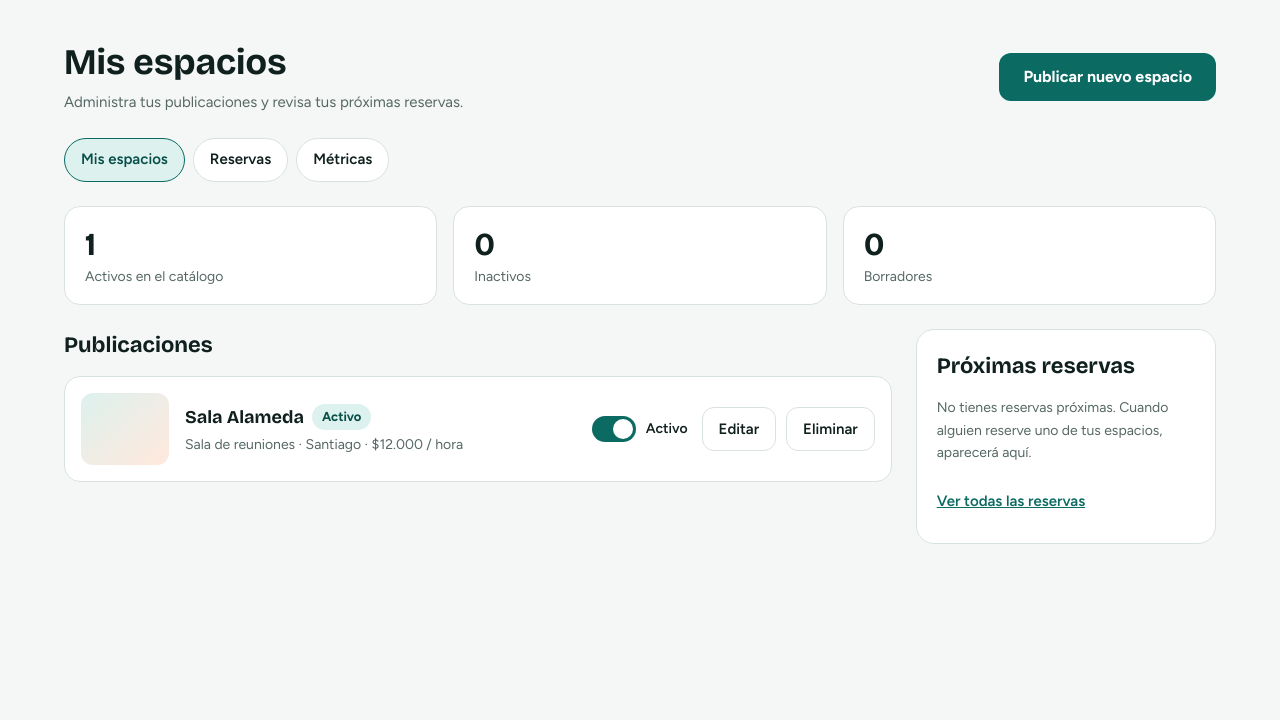
Test case: OwnerSpacesPage › desactivar › si el servidor falla, el espacio sigue activo y se muestra el motivo
Expected: the heading "Publicaciones" is shown, 64,332 -> 213,358
What coordinates should you click on to do the following:
click the switch labelled "Activo"
I would click on:
 (640, 429)
Its box is 588,407 -> 692,451.
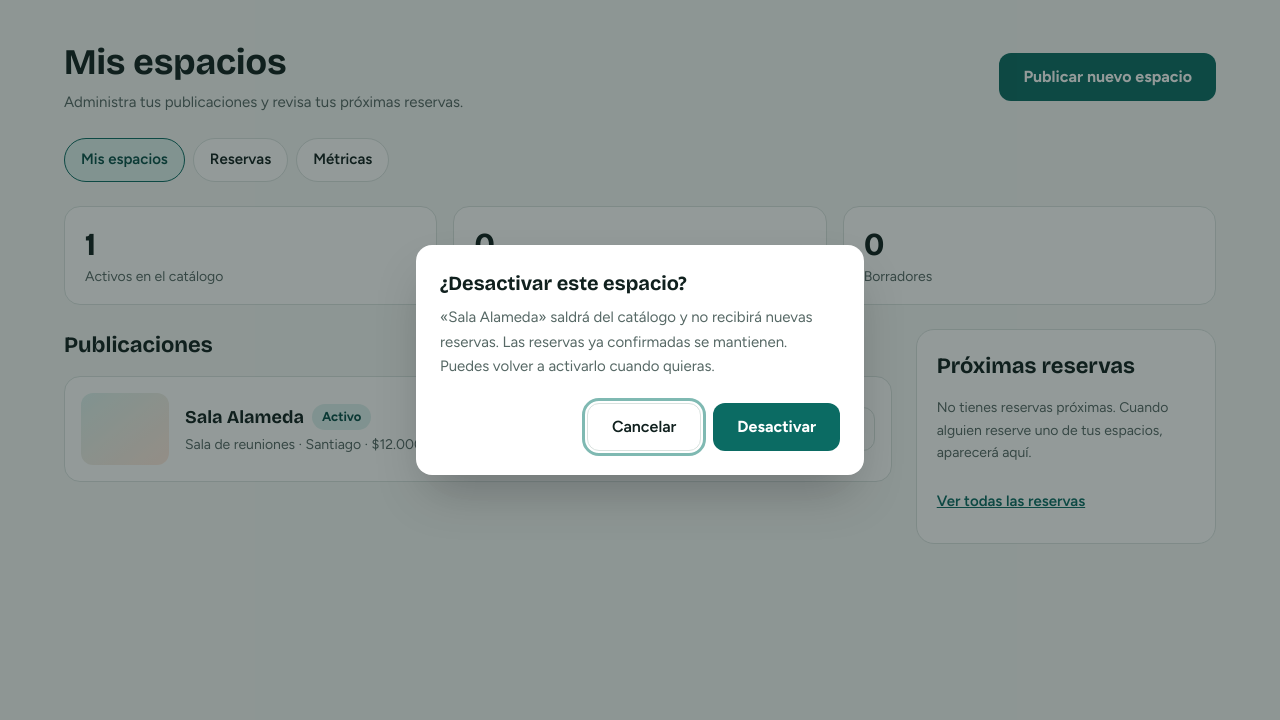
What coordinates should you click on to do the following:
click the button "Desactivar"
I would click on:
 (777, 427)
Its box is 713,403 -> 840,451.
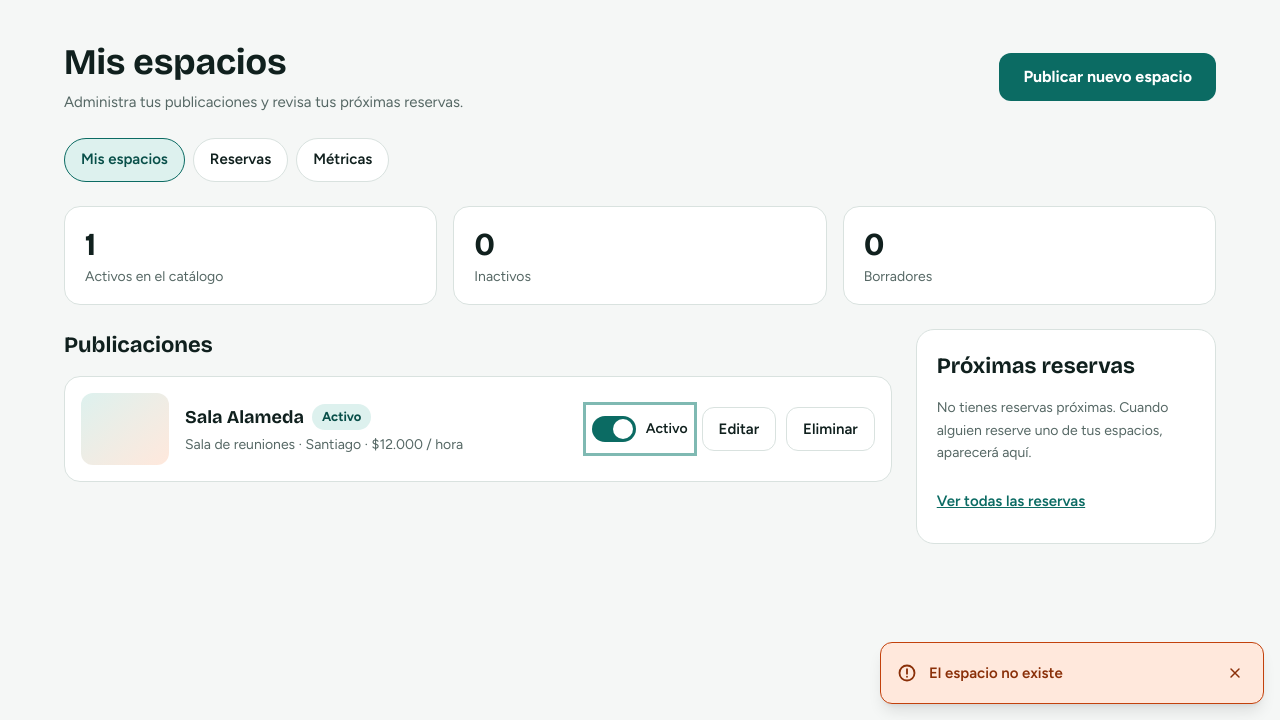
Result: the message reads "El espacio no existe" at 929,664 -> 1063,682
Result: the dialog is gone
